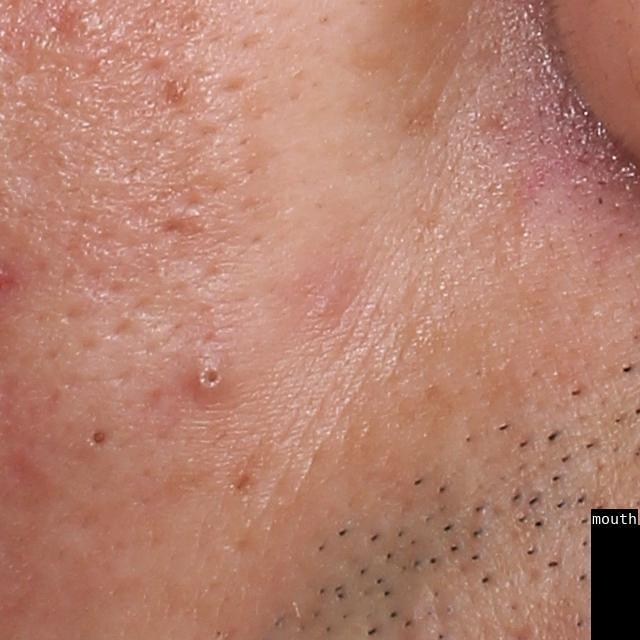atrophic_scar: (151, 215, 203, 236)
comedo: (84, 424, 115, 452)
papule: (191, 356, 236, 404)
